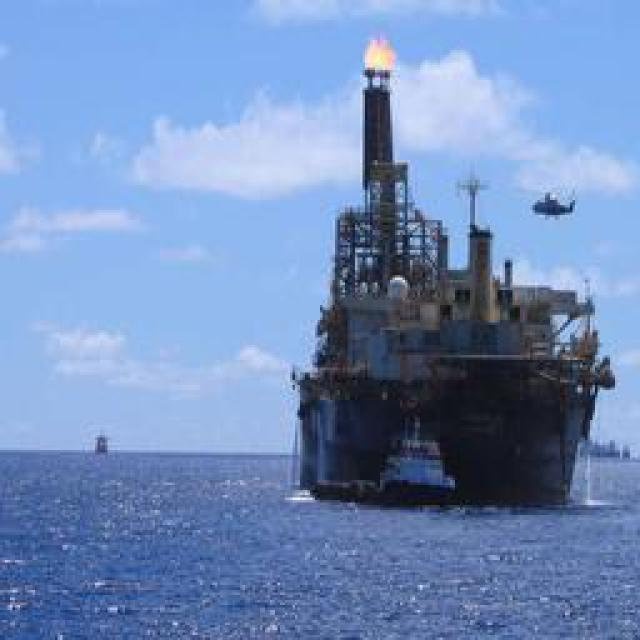Ship: (295, 71, 615, 506)
